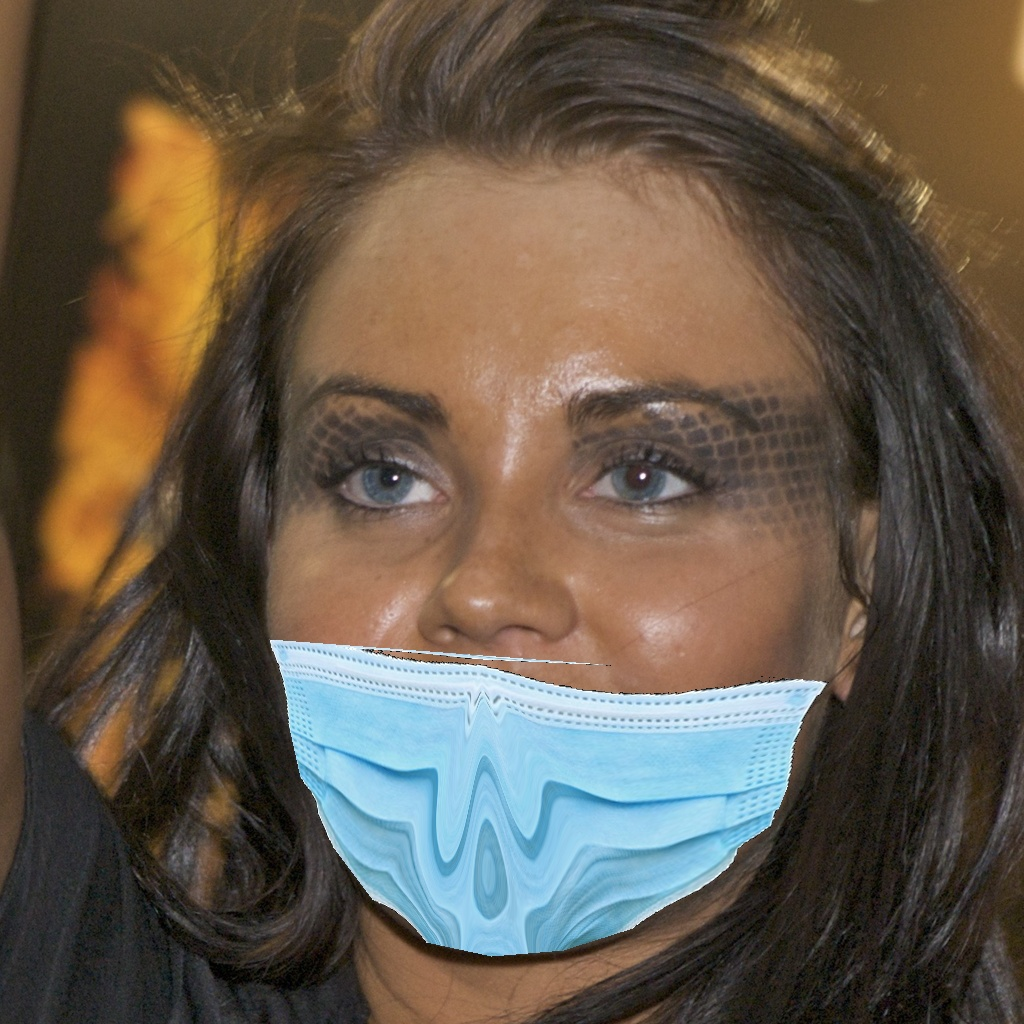mascarilla_mal_puesta: (254, 355, 822, 970)
